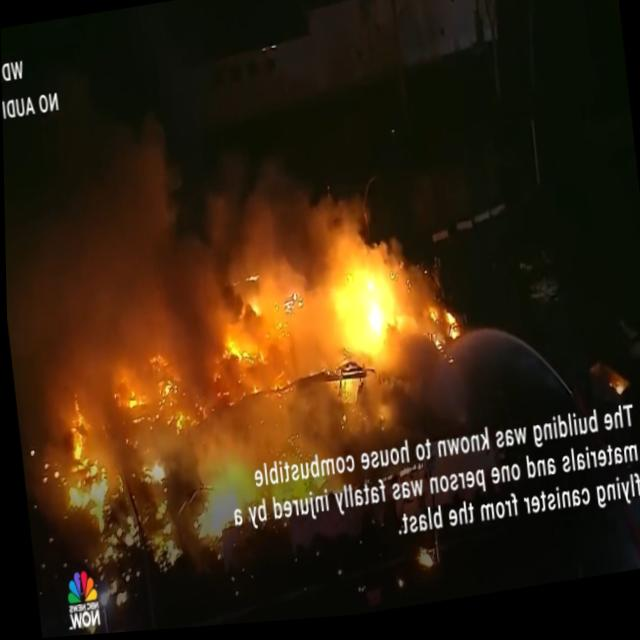Fire: (57, 358, 189, 486), (209, 277, 312, 382), (263, 373, 389, 448), (169, 455, 254, 547), (321, 263, 396, 356)
